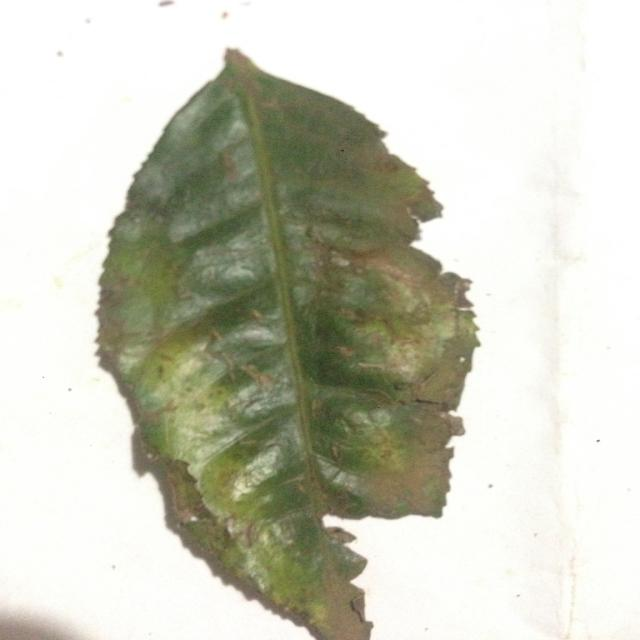Red Leaf Spot: (98, 38, 508, 640)
